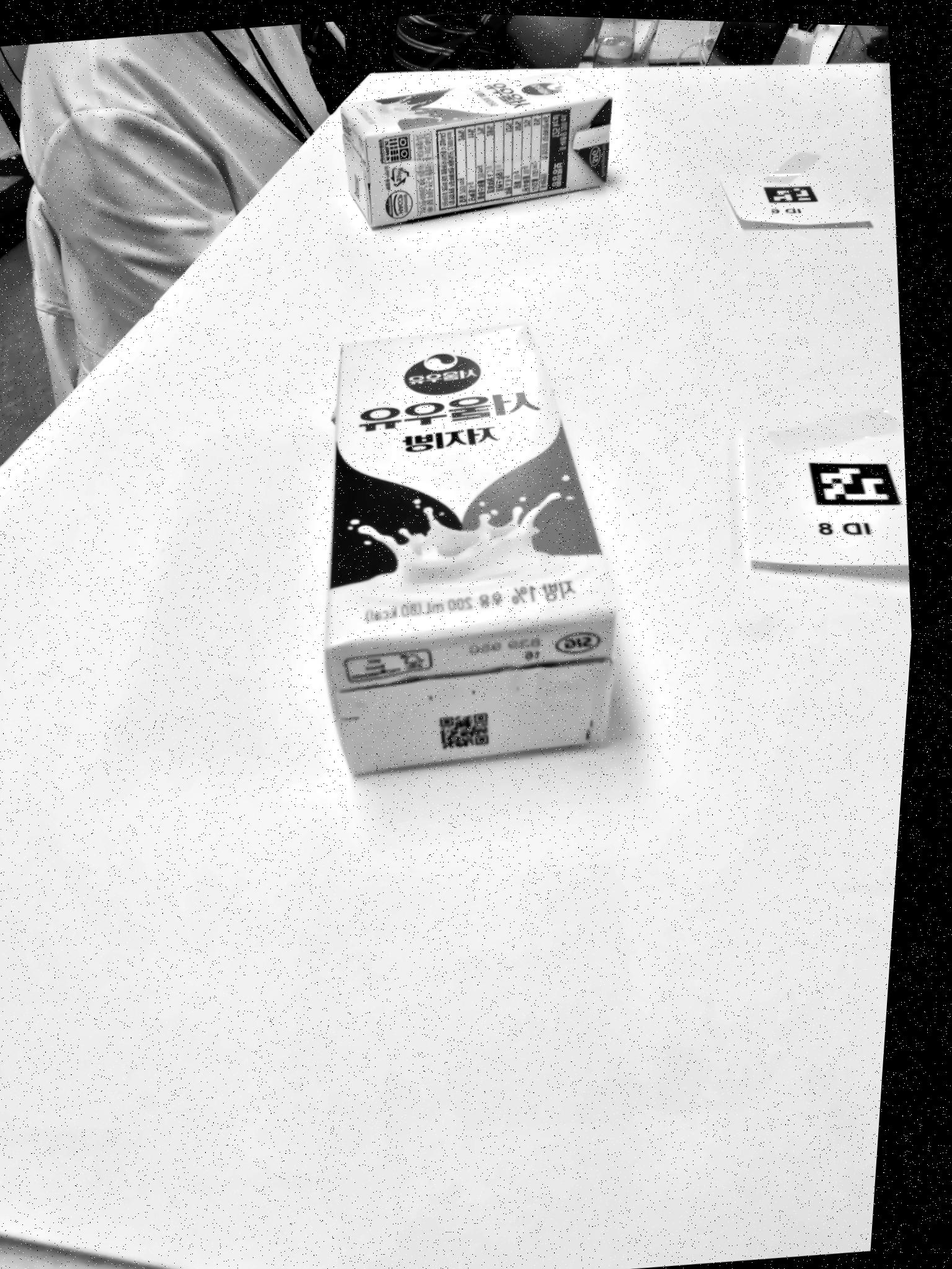milk_blue: (324, 317, 615, 779)
milk_green: (343, 71, 612, 232)
